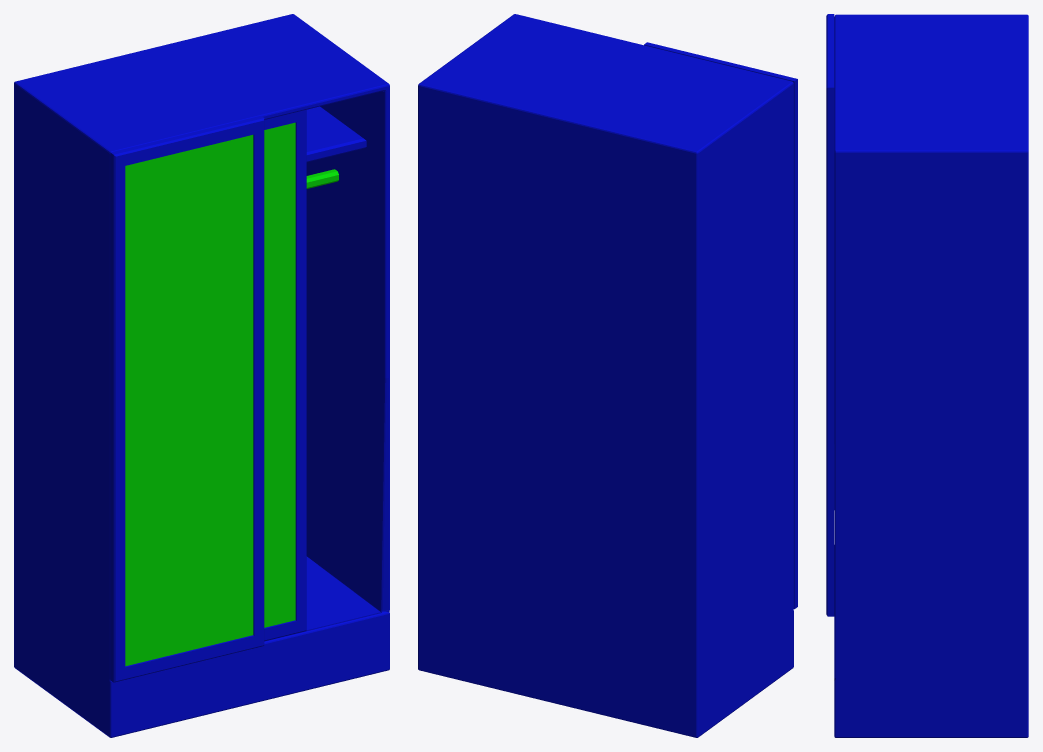
The model's file is Wardrobe.fbx.
The picture shows the model from 3 angles, left to right: view 1: azimuth 30°, elevation 25°; view 2: azimuth 150°, elevation 25°; view 3: azimuth 270°, elevation 25°; orthographic projection.
Visible parts, largest first — view 1: wardrobe; view 2: wardrobe; view 3: wardrobe.
Part boxes in pixels (box(x1,y1,x2,y2)): wardrobe: box(14, 14, 389, 737); wardrobe: box(418, 14, 797, 737); wardrobe: box(826, 14, 1028, 737).
Bounding box in the file's own units: 100 × 200 × 62.5.
